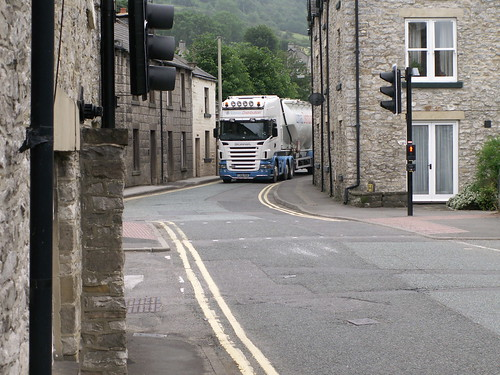building: (309, 1, 500, 205), (109, 17, 190, 178), (188, 65, 223, 184)
door: (404, 118, 462, 213)
street: (120, 188, 500, 375)
truck: (211, 94, 315, 184)
vegetation: (178, 1, 308, 98)
window: (406, 16, 459, 84)
